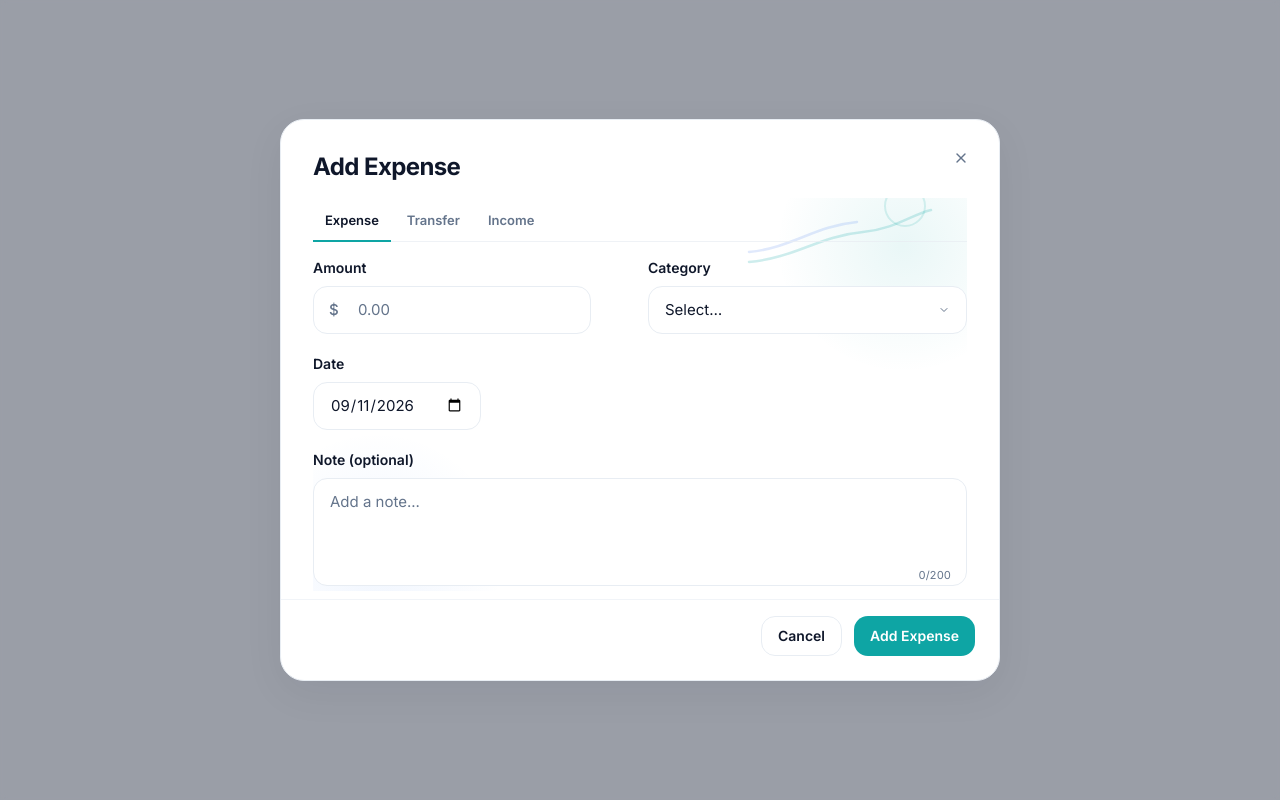
Test case: TransactionForm (AC-04, AC-05) › rejects an invalid amount without adding anything
In the field labelled "Amount": (452, 310) x1=313 y1=286 x2=591 y2=334, type "abc"
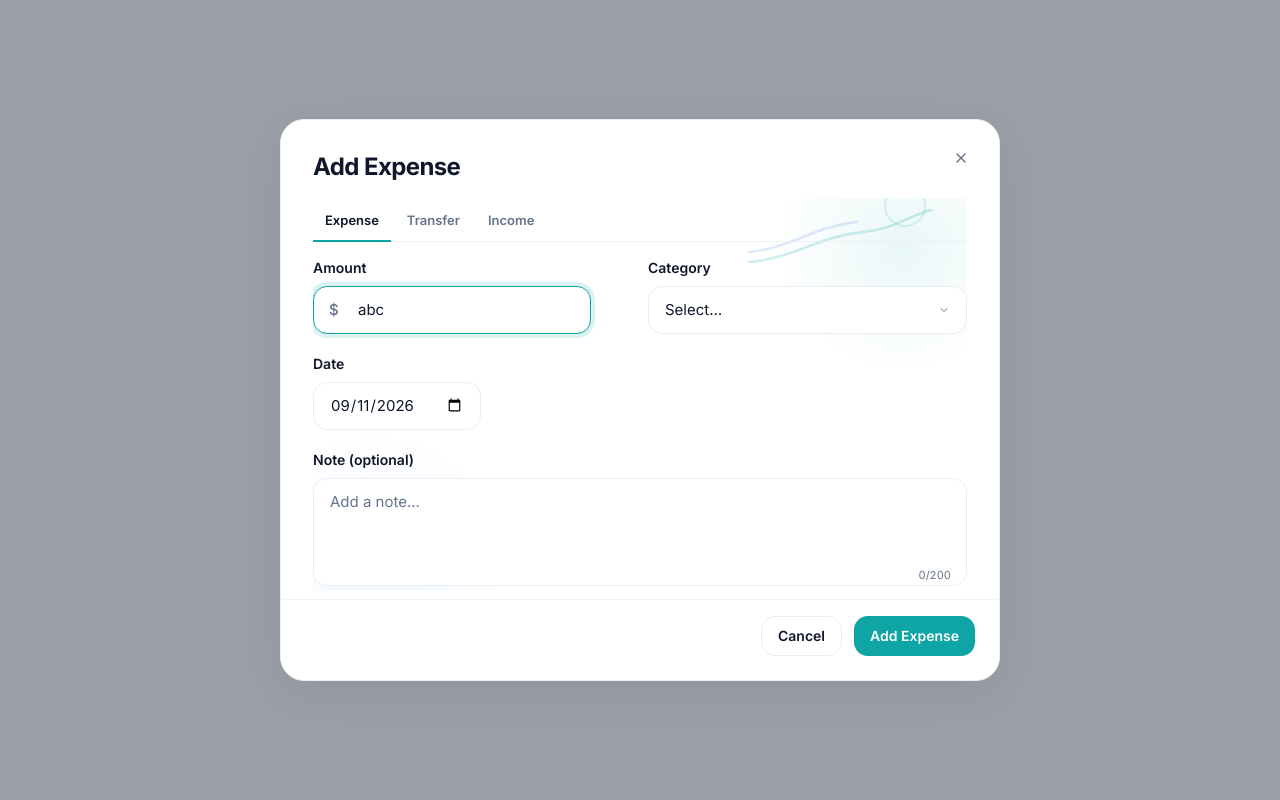
Click the button "Add Expense": click(914, 636) x1=854 y1=616 x2=975 y2=656
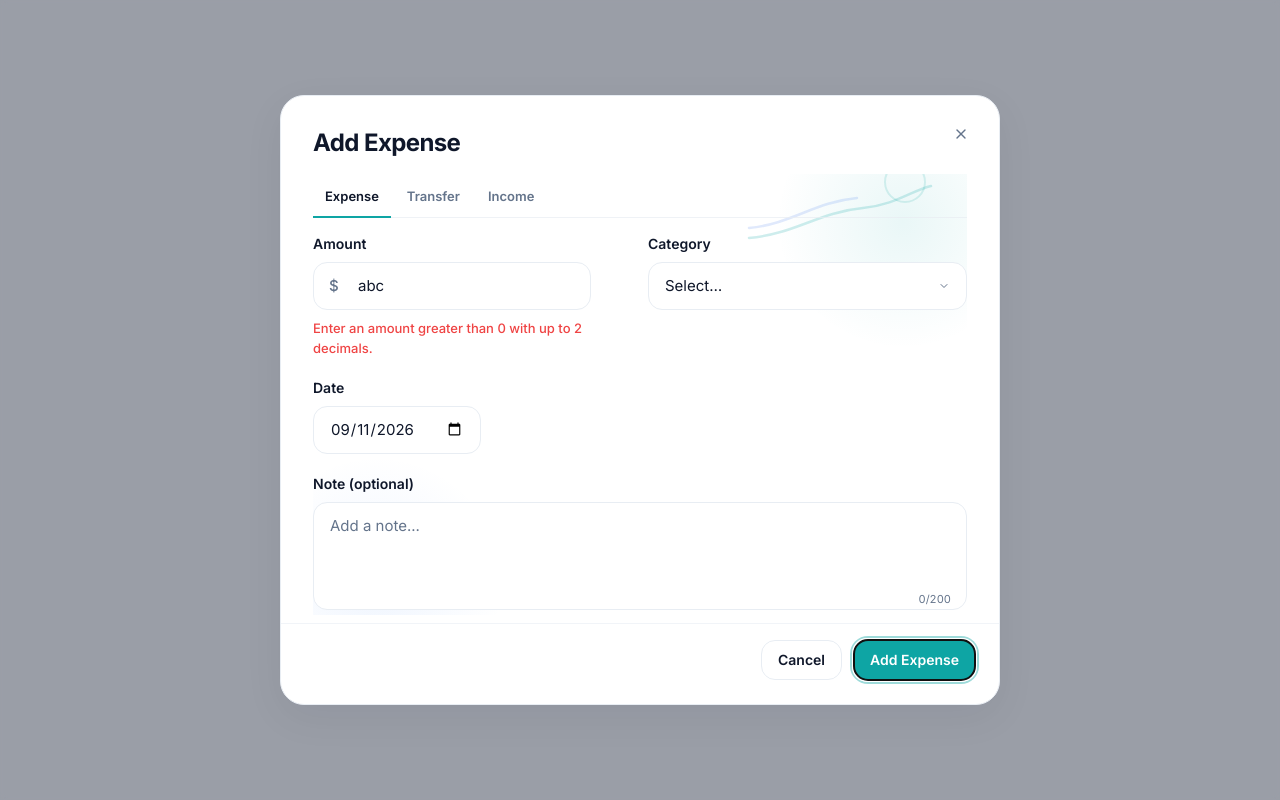
Expected: the message shows "Enter an amount", x1=313 y1=320 x2=582 y2=356
